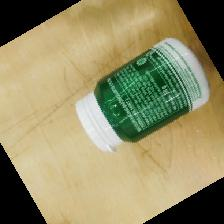Xylitol_green: (71, 35, 211, 155)
